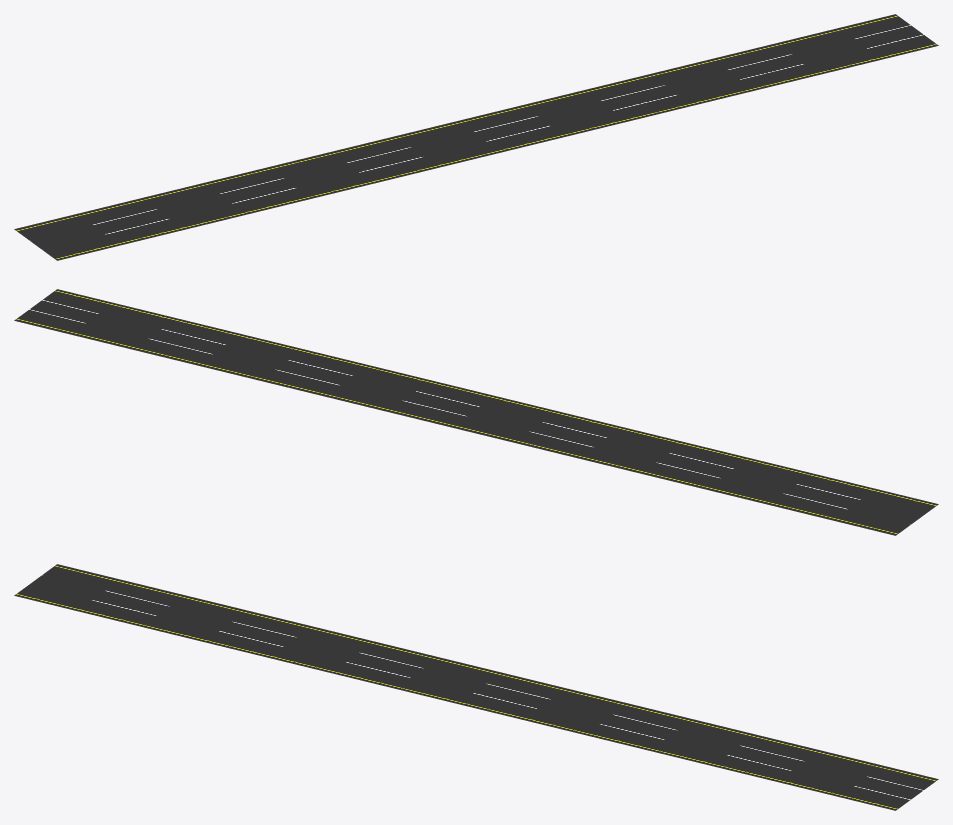
File: straight200.dae
The picture shows the model from 3 angles, top to bottom: view 1: azimuth 30°, elevation 25°; view 2: azimuth 150°, elevation 25°; view 3: azimuth 330°, elevation 25°; orthographic projection.
Parts seen in each view (by area): view 1: Plane; view 2: Plane; view 3: Plane.
Boxes of the visible parts, x1,y1,x2,y2 form: Plane: [14, 14, 938, 260]; Plane: [14, 289, 938, 535]; Plane: [14, 564, 938, 810].
Bounding box in the file's own units: 200 × 17 × 0.
Materials: 1 (1 with a texture image).
